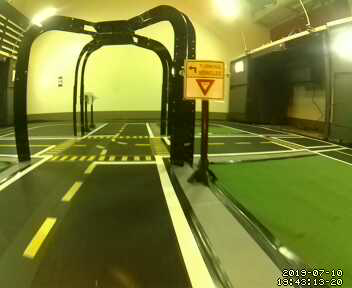Turn Yield: (185, 59, 225, 103)
